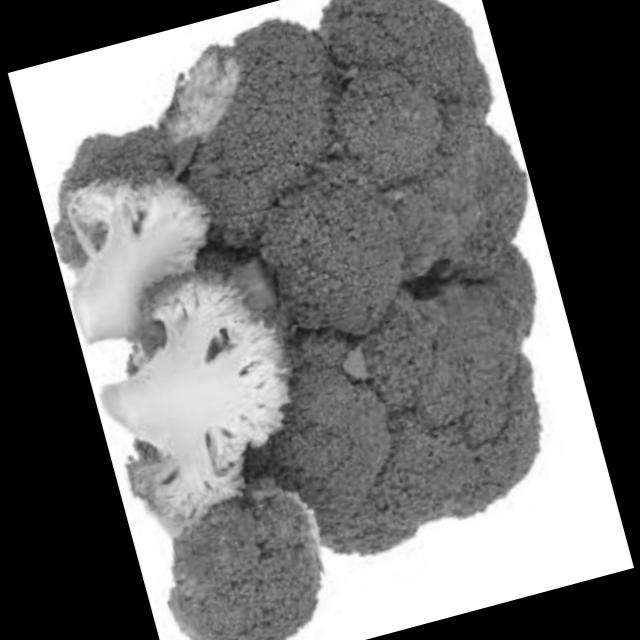broccoli: (10, 0, 632, 640), (70, 249, 342, 533), (36, 140, 240, 361)
